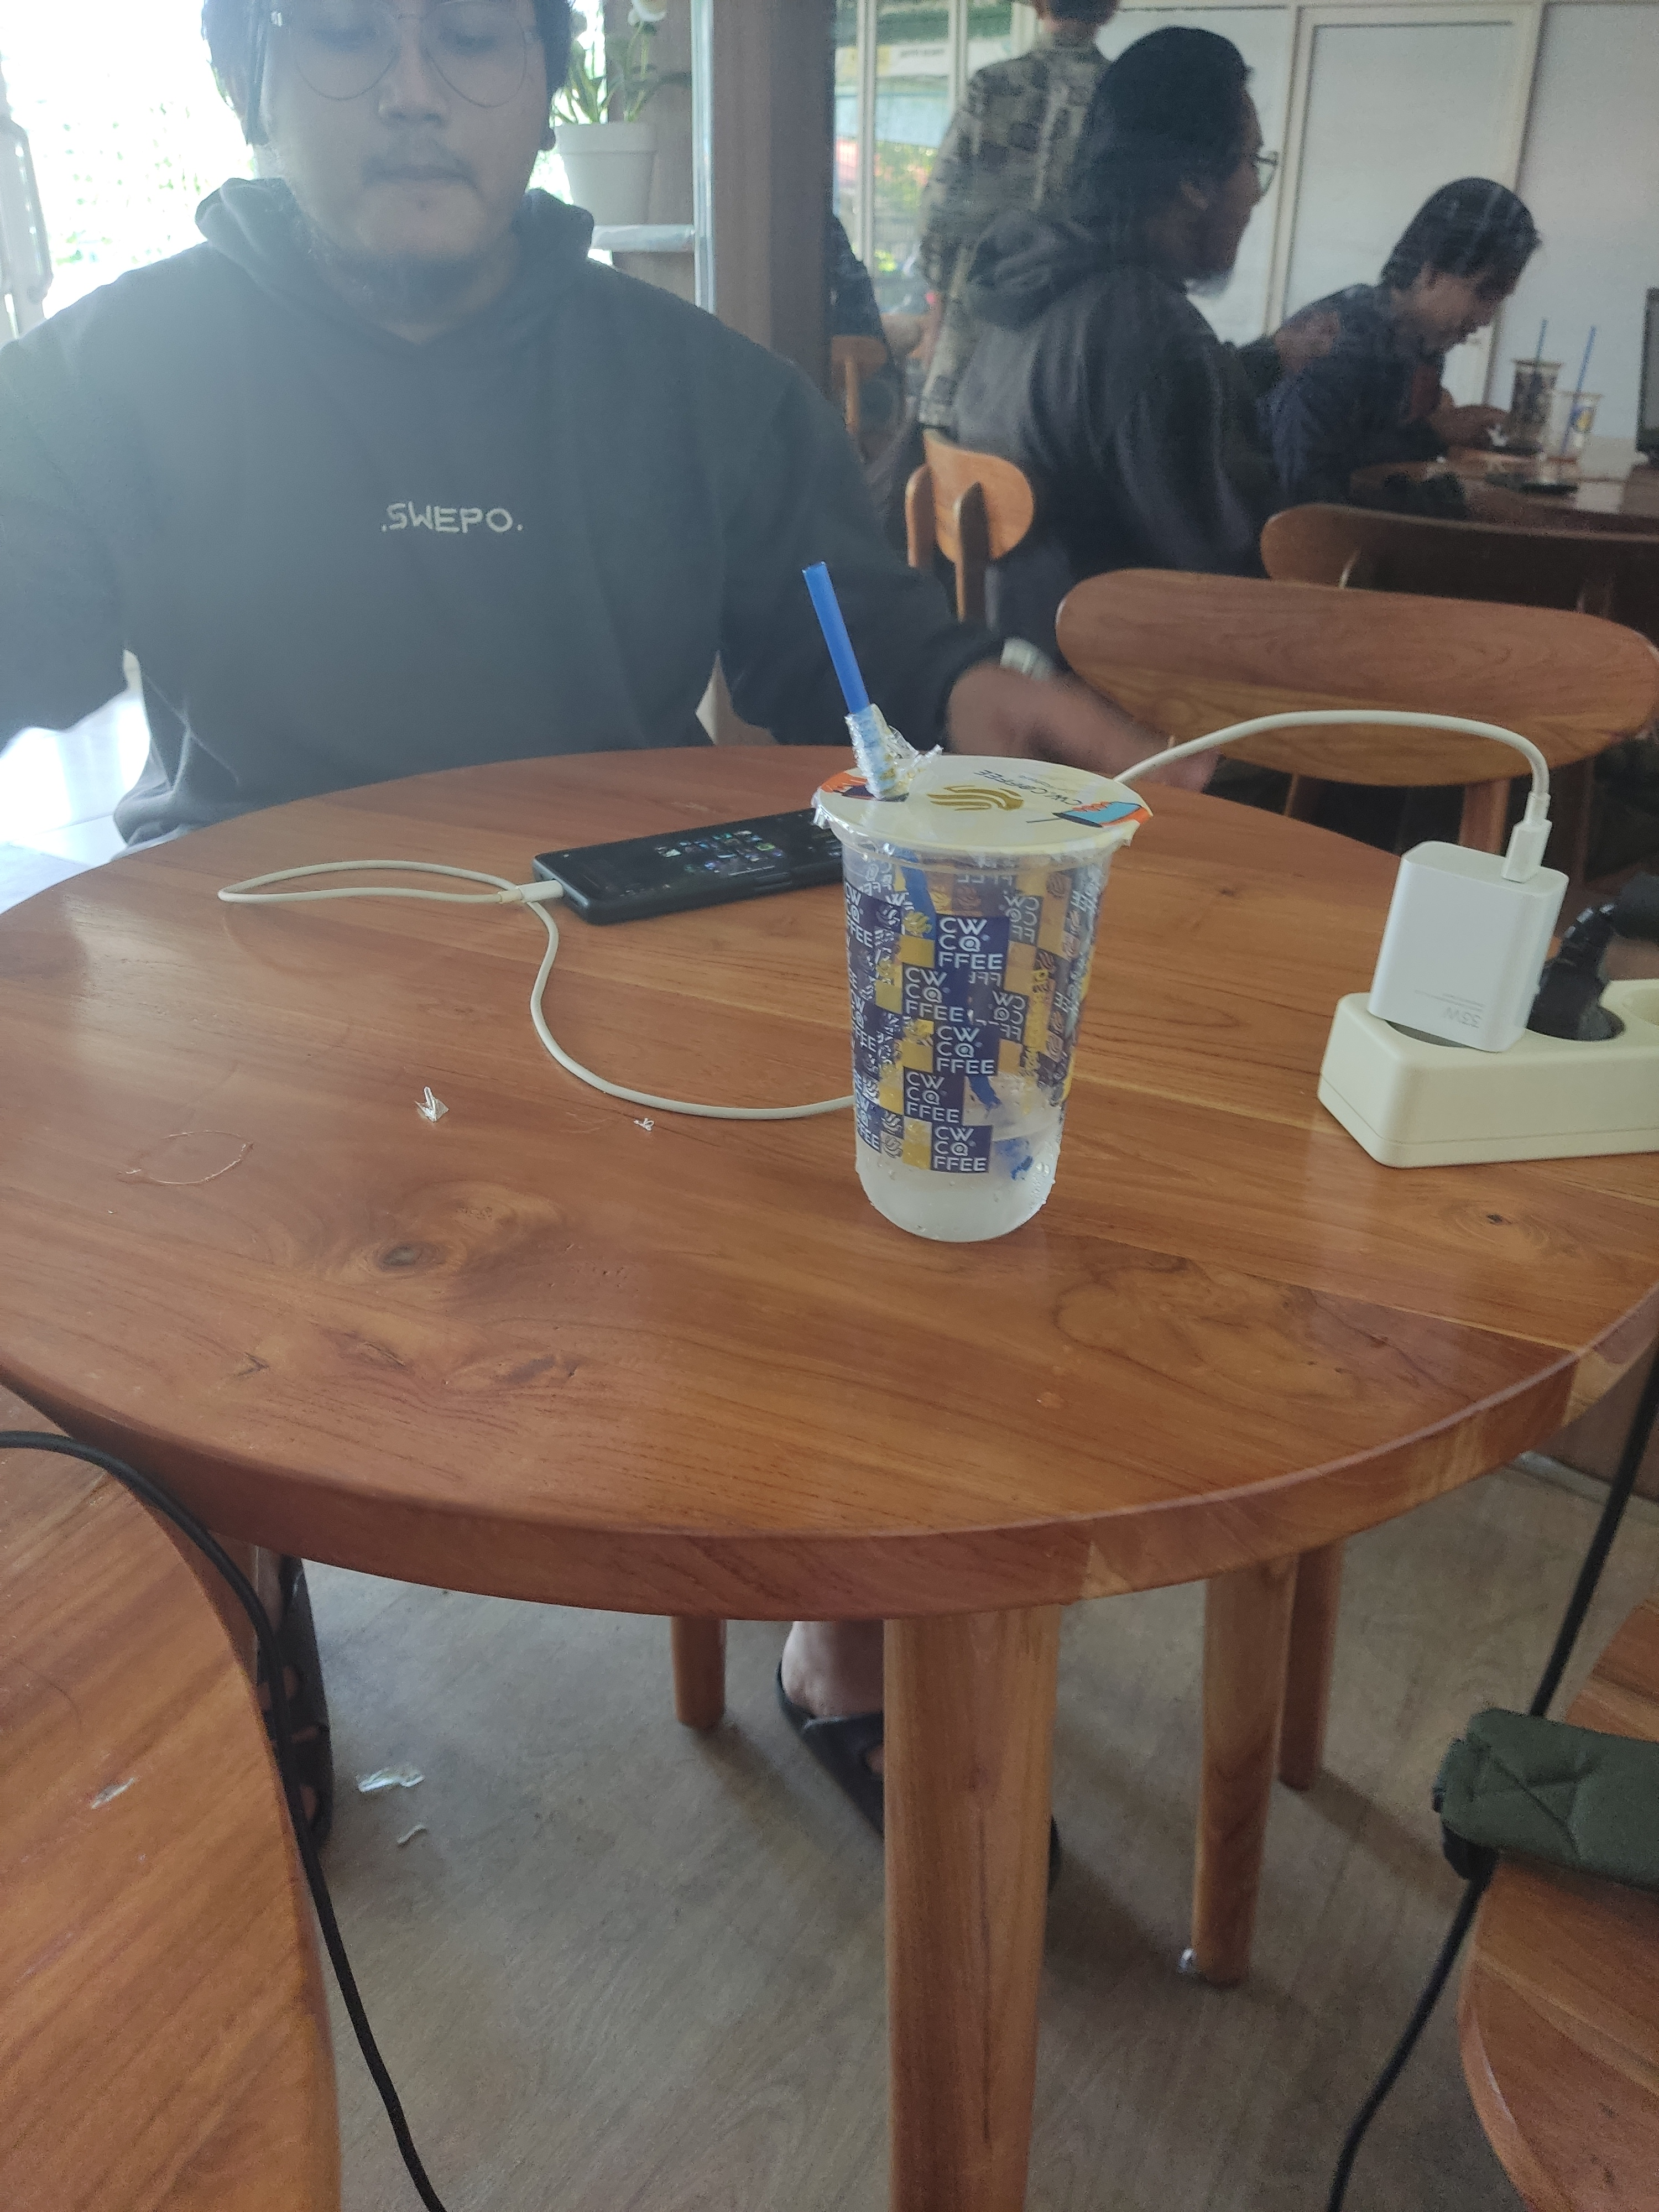Gelas CW: (819, 751, 1100, 1226)
